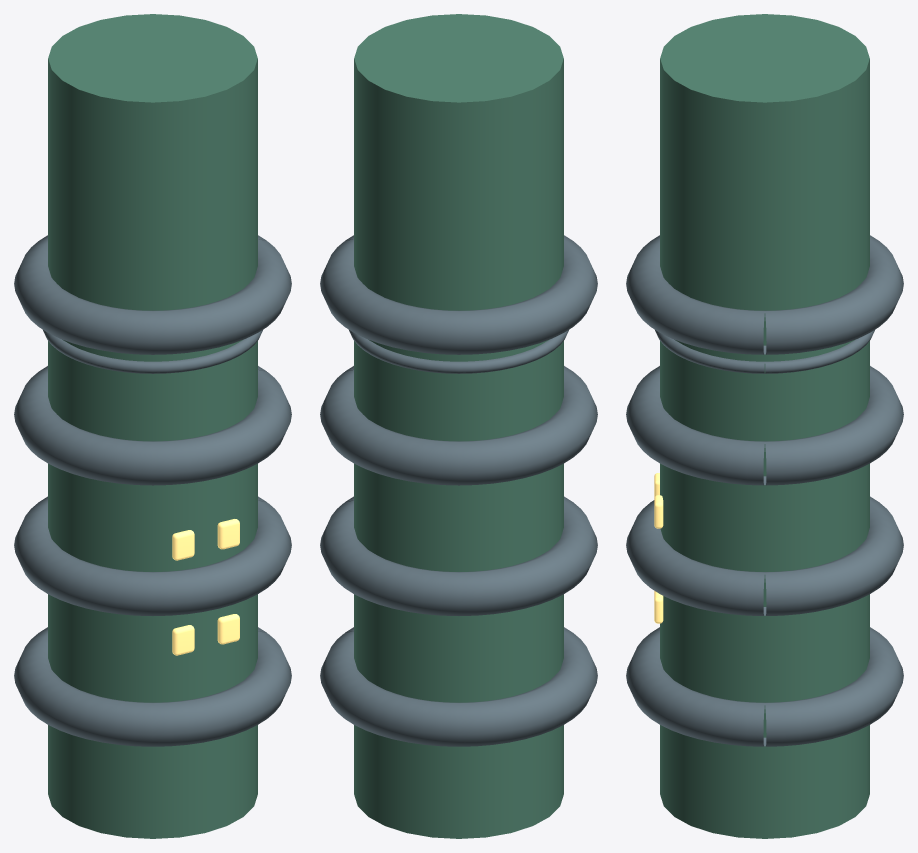
The picture shows the model from 3 angles, left to right: view 1: azimuth 30°, elevation 25°; view 2: azimuth 150°, elevation 25°; view 3: azimuth 270°, elevation 25°; orthographic projection.
Parts seen in each view (by area): view 1: Cylindrical tower, Tower intermediate ledge.002, Tower intermediate ledge.003, Tower intermediate ledge, Tower intermediate ledge.001, Tower seam, Inset service window.001, Inset service window.005, Inset service window, Inset service window.004; view 2: Cylindrical tower, Tower intermediate ledge.002, Tower intermediate ledge.003, Tower intermediate ledge, Tower intermediate ledge.001, Tower seam; view 3: Cylindrical tower, Tower intermediate ledge.002, Tower intermediate ledge.003, Tower intermediate ledge, Tower intermediate ledge.001, Tower seam.
Part boxes in pixels (bbox=[...]): Cylindrical tower: bbox=[48, 14, 257, 838]; Tower intermediate ledge.002: bbox=[14, 366, 291, 485]; Tower intermediate ledge.003: bbox=[14, 235, 291, 354]; Tower intermediate ledge: bbox=[14, 627, 291, 746]; Tower intermediate ledge.001: bbox=[14, 496, 291, 615]; Tower seam: bbox=[43, 330, 262, 373]; Inset service window.001: bbox=[217, 614, 239, 644]; Inset service window.005: bbox=[217, 519, 239, 549]; Inset service window: bbox=[172, 625, 194, 655]; Inset service window.004: bbox=[172, 530, 194, 560]; Cylindrical tower: bbox=[354, 14, 563, 838]; Tower intermediate ledge.002: bbox=[320, 366, 597, 485]; Tower intermediate ledge.003: bbox=[320, 235, 597, 354]; Tower intermediate ledge: bbox=[320, 627, 597, 746]; Tower intermediate ledge.001: bbox=[320, 496, 597, 615]; Tower seam: bbox=[349, 330, 568, 373]; Cylindrical tower: bbox=[660, 14, 869, 838]; Tower intermediate ledge.002: bbox=[626, 366, 903, 485]; Tower intermediate ledge.003: bbox=[626, 235, 903, 354]; Tower intermediate ledge: bbox=[626, 627, 903, 746]; Tower intermediate ledge.001: bbox=[626, 496, 903, 615]; Tower seam: bbox=[655, 330, 874, 373].
Size of the model in its own units: 1.06 by 3.1 by 1.06.
